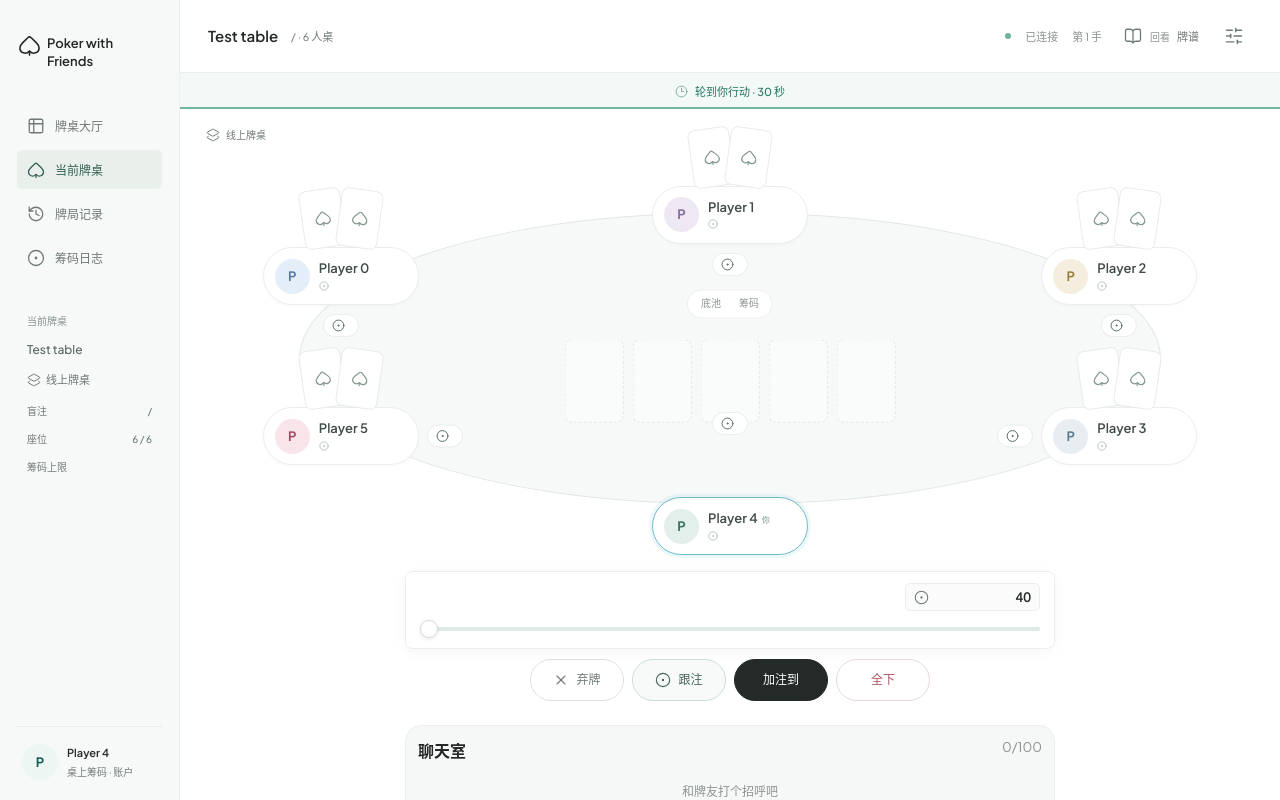
Scenario: table interaction › retains focus in an all-in dialog while its command is pending
The width and height of the screenshot is (1280, 800).
Click the button "全下" at (883, 680), box [836,659,930,701]
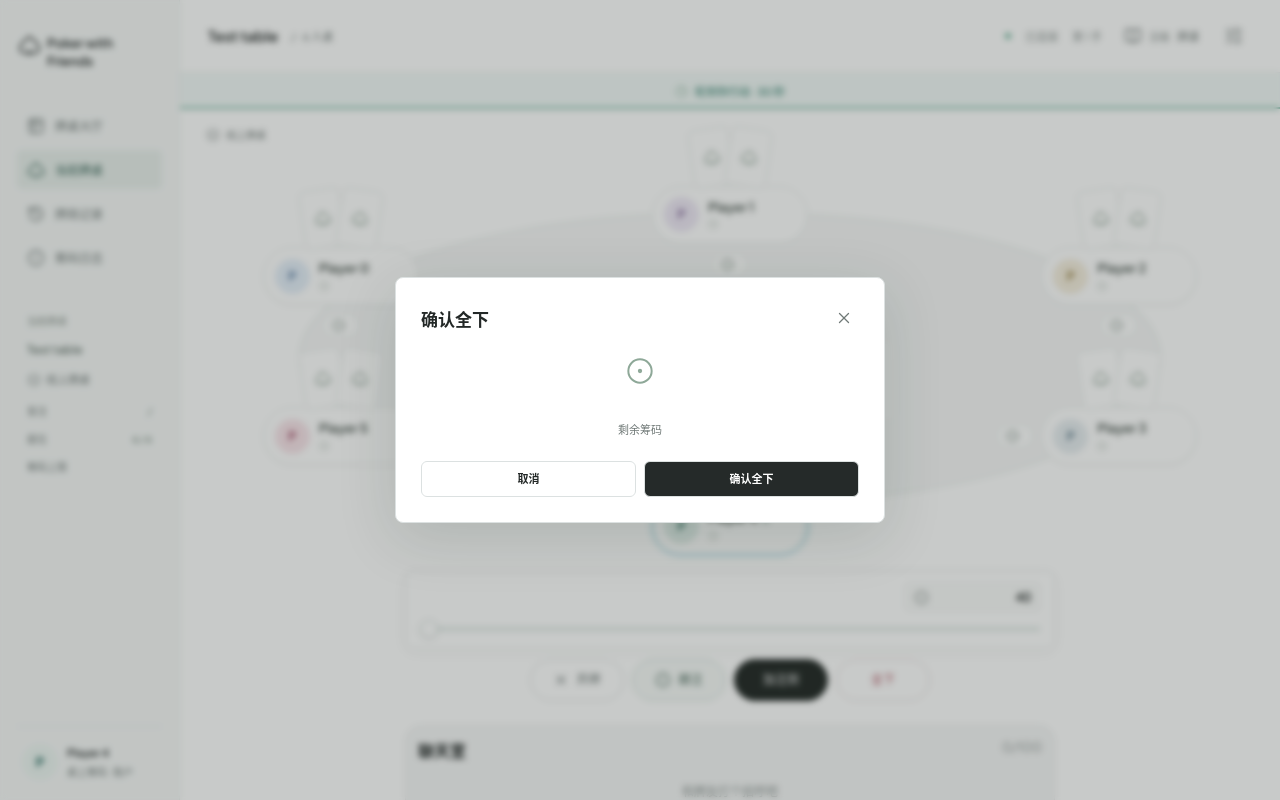
Click the button "确认全下" at (752, 479), box [644,461,859,497]
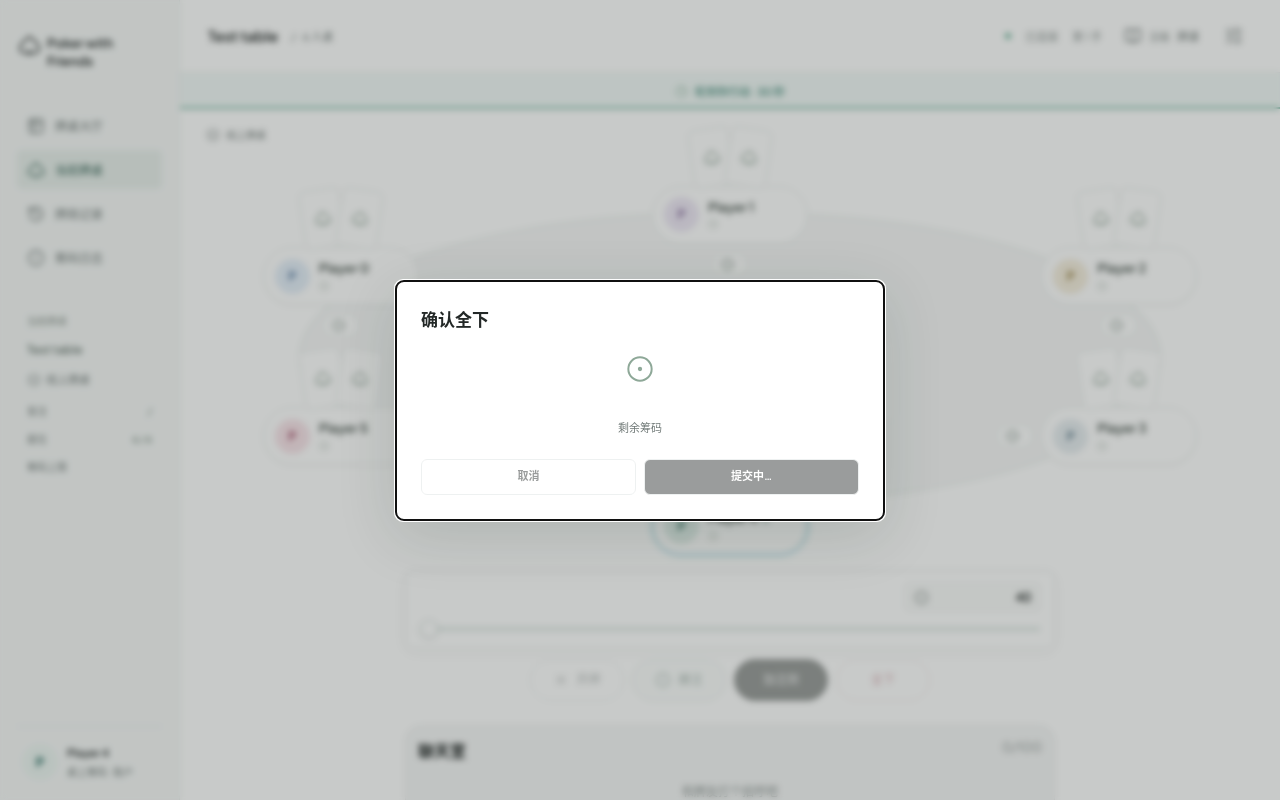
Press Tab in the dialog, box [395,280,885,520]
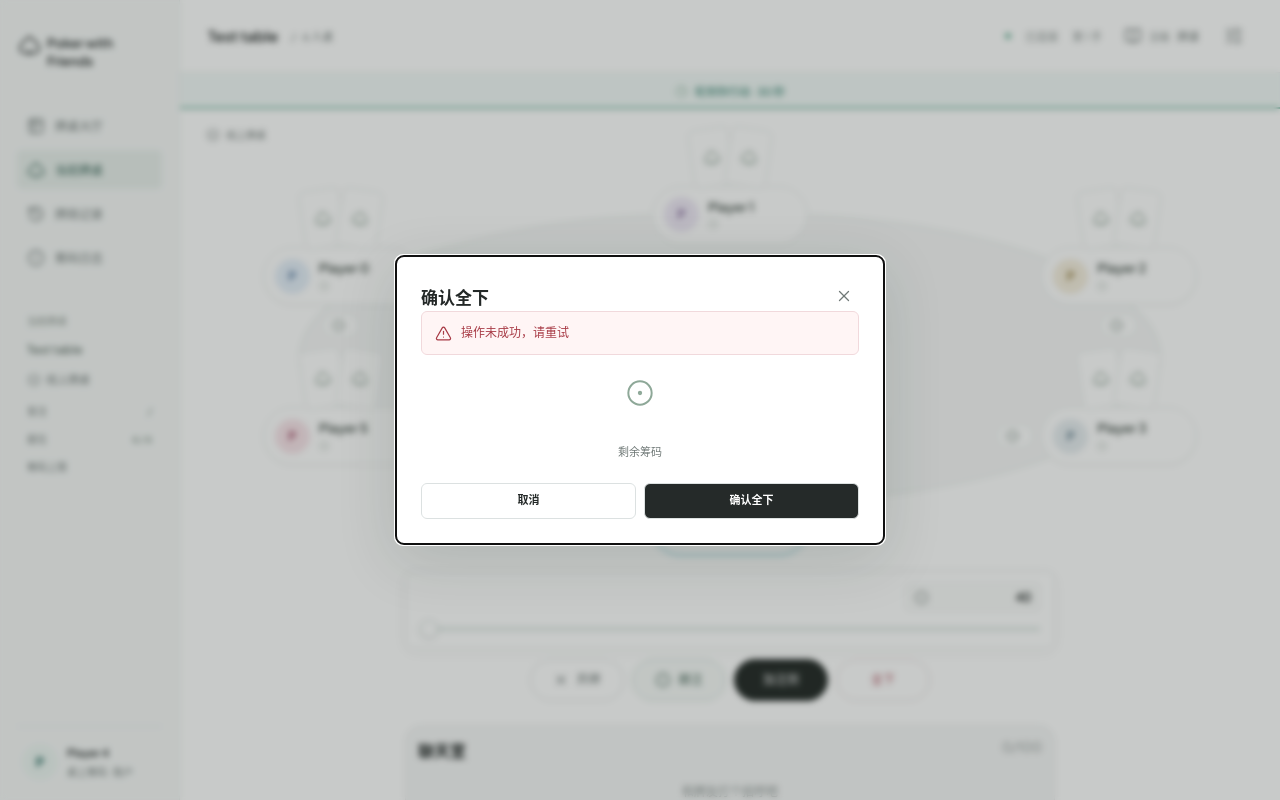
Check: the message "操作未成功，请重试" is shown, box [421,311,859,355]
